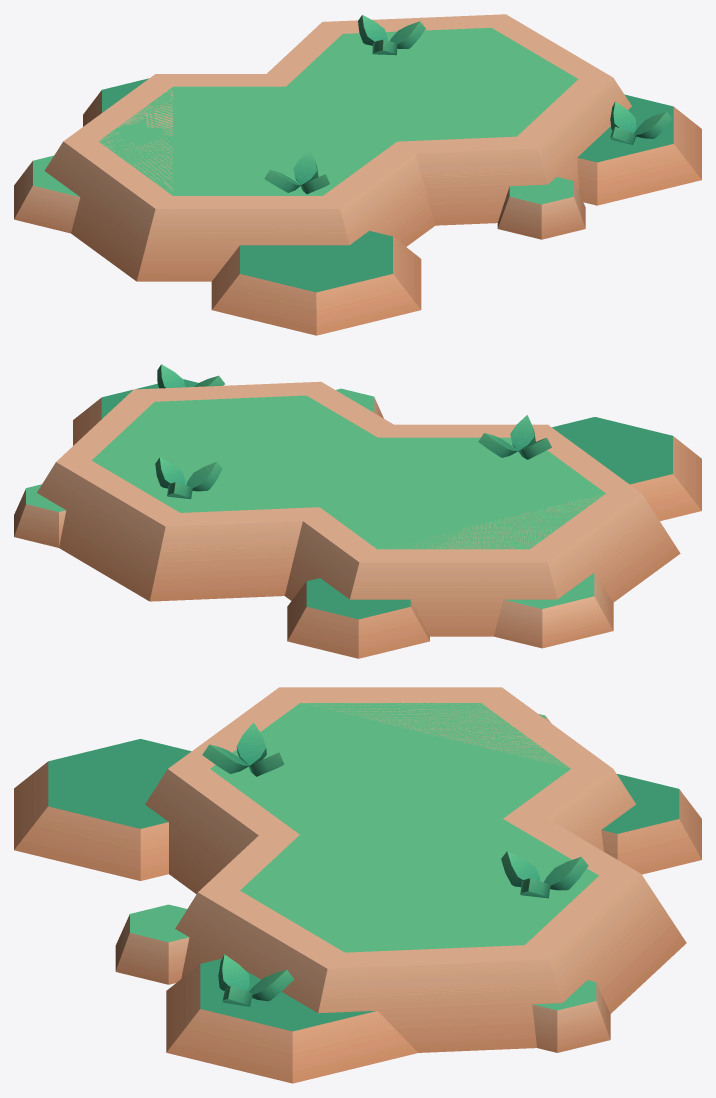
File: rock-flat-grass.glb
3 renders of one model, top to bottom at view 1: azimuth 30°, elevation 25°; view 2: azimuth 150°, elevation 25°; view 3: azimuth 270°, elevation 25°, orthographic. The views are drawn at different scales.
Parts seen in each view (by area): view 1: rock-flat-grass; view 2: rock-flat-grass; view 3: rock-flat-grass.
Part boxes in pixels (x1,y1,x2,y2): rock-flat-grass: [14, 14, 701, 335]; rock-flat-grass: [14, 364, 701, 658]; rock-flat-grass: [14, 687, 701, 1083].
Bounding box in the file's own units: 1.79 × 0.2257 × 1.45.
Materials: 1 (1 with a texture image).
